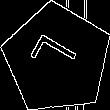L_SE: (28, 33, 86, 85)
